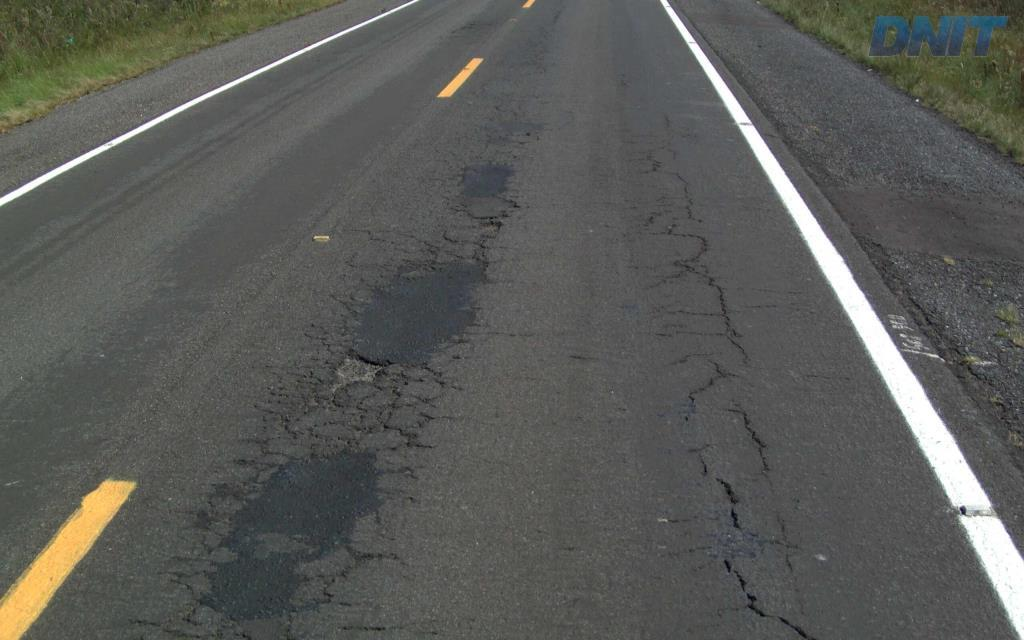crack: (702, 269, 750, 364), (375, 385, 432, 448), (727, 403, 770, 478), (296, 370, 351, 415), (715, 477, 744, 531)
pothole: (322, 348, 391, 394)
